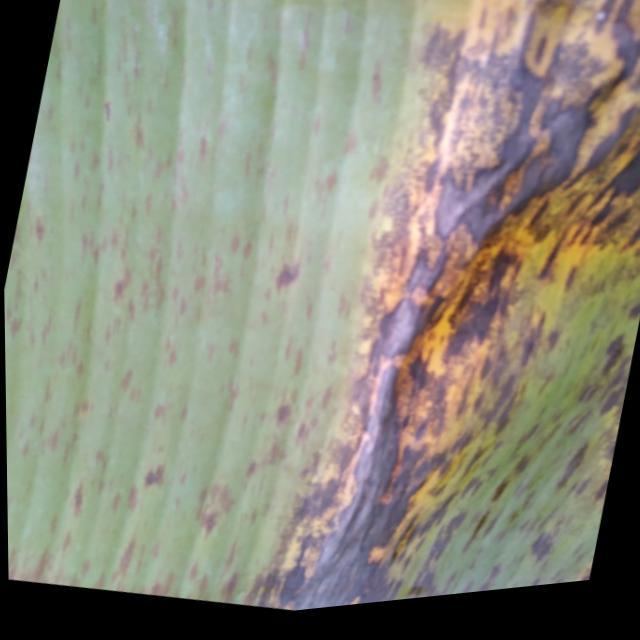Early_rust: (236, 14, 640, 640)
